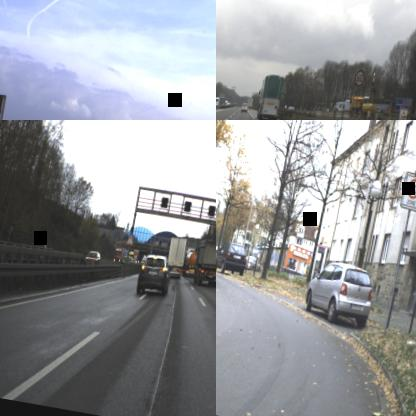speed limit 30: (405, 177, 416, 200)
speed limit 60: (352, 66, 366, 88)
traffic signal: (125, 232, 135, 245)
